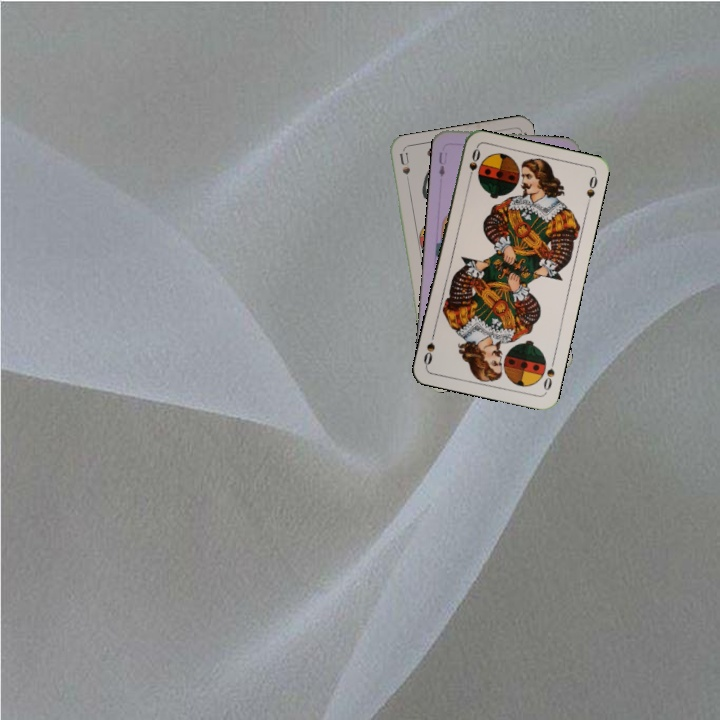EU: (435, 148, 450, 179)
SO: (464, 144, 483, 184), (539, 355, 557, 395)
SU: (395, 149, 413, 177)
